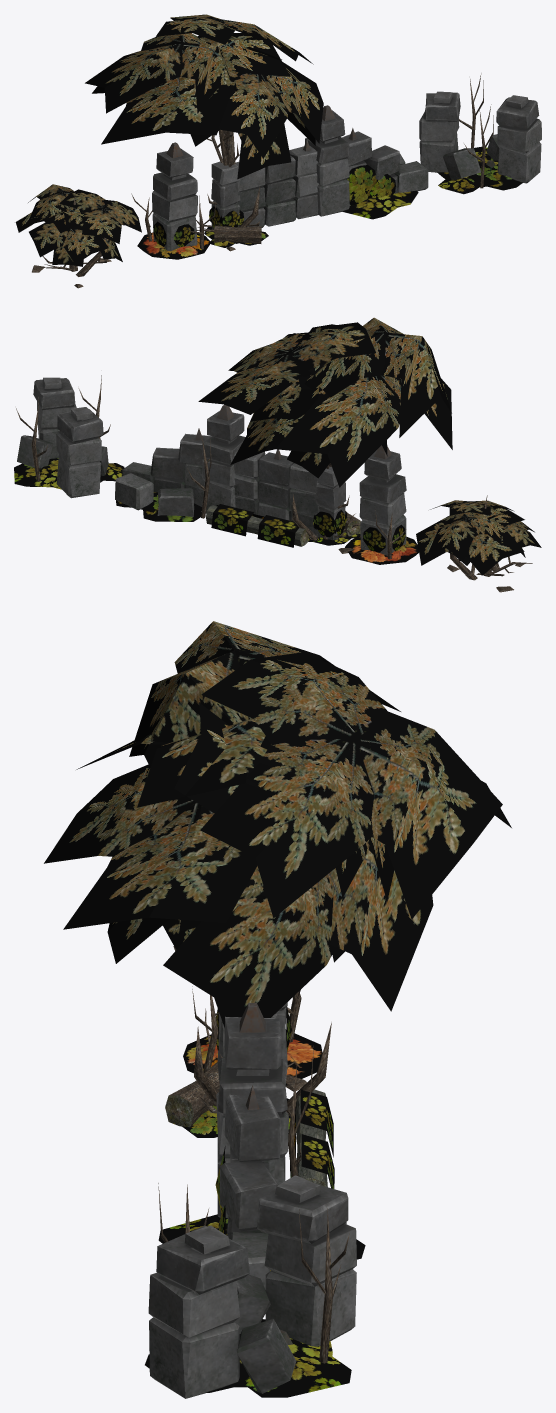
Rendered from springruins.glb.
3 views of the same model, one above another, from view 1: azimuth 30°, elevation 25°; view 2: azimuth 150°, elevation 25°; view 3: azimuth 270°, elevation 25° (orthographic). The views are drawn at different scales.
Parts seen in each view (by area): view 1: SR_Tree_03.001, SR_Ruin_17.001, SR_Ruin_16.001, SR_Bush_01.001, SR_Ruin_02.001; view 2: SR_Tree_03.001, SR_Ruin_17.001, SR_Ruin_16.001, SR_Bush_01.001, SR_Ruin_02.001; view 3: SR_Tree_03.001, SR_Ruin_16.001, SR_Ruin_17.001, SR_Ruin_02.001.
Boxes of the visible parts, box(x1,y1,x2,y2) form: SR_Tree_03.001: box(85, 14, 323, 251); SR_Ruin_17.001: box(204, 105, 428, 239); SR_Ruin_16.001: box(419, 73, 541, 194); SR_Bush_01.001: box(15, 184, 141, 288); SR_Ruin_02.001: box(131, 142, 215, 259); SR_Tree_03.001: box(198, 317, 452, 553); SR_Ruin_17.001: box(115, 404, 352, 547); SR_Ruin_16.001: box(14, 375, 124, 498); SR_Bush_01.001: box(416, 495, 541, 592); SR_Ruin_02.001: box(345, 445, 418, 564); SR_Tree_03.001: box(44, 621, 511, 1137); SR_Ruin_16.001: box(145, 1175, 356, 1398); SR_Ruin_17.001: box(158, 1003, 365, 1289); SR_Ruin_02.001: box(183, 986, 322, 1085).
Bounding box in the file's own units: 9.79 × 3.96 × 4.
1 material, 1 textured.
